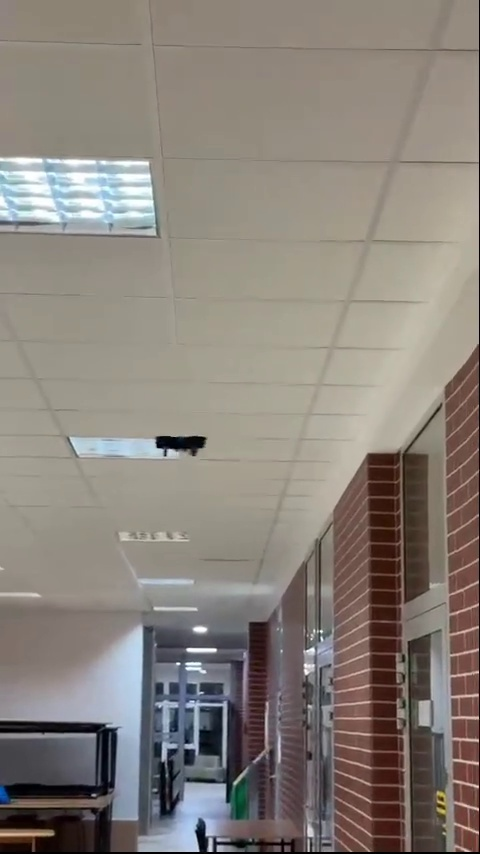drone: (157, 432, 209, 459)
